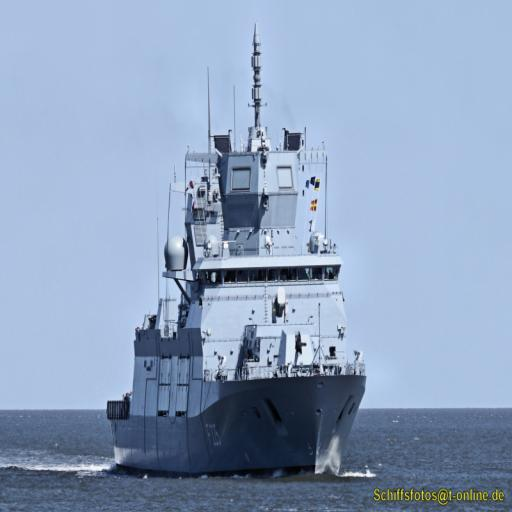Fragata: (104, 14, 370, 481)
